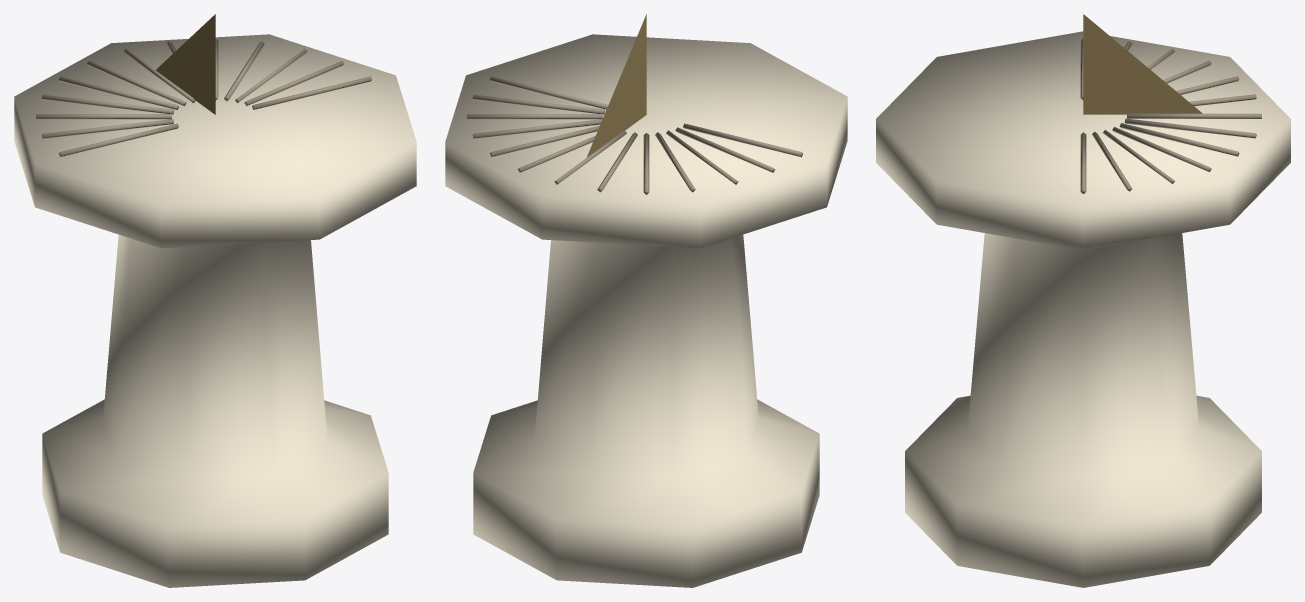
Rendered from courtyard-sundial.glb.
The picture shows the model from 3 angles, left to right: view 1: azimuth 30°, elevation 25°; view 2: azimuth 150°, elevation 25°; view 3: azimuth 270°, elevation 25°; orthographic projection.
Visible parts, largest first — view 1: courtyard-sundial__marble, courtyard-sundial__mortar, courtyard-sundial__bronze; view 2: courtyard-sundial__marble, courtyard-sundial__mortar, courtyard-sundial__bronze; view 3: courtyard-sundial__marble, courtyard-sundial__bronze, courtyard-sundial__mortar.
Boxes of the visible parts, box(x1,y1,x2,y2) form: courtyard-sundial__marble: box(14, 34, 416, 587); courtyard-sundial__mortar: box(36, 39, 371, 157); courtyard-sundial__bronze: box(155, 14, 215, 114); courtyard-sundial__marble: box(445, 34, 847, 587); courtyard-sundial__mortar: box(467, 76, 802, 194); courtyard-sundial__bronze: box(586, 14, 646, 157); courtyard-sundial__marble: box(876, 31, 1290, 587); courtyard-sundial__bronze: box(1083, 14, 1202, 114); courtyard-sundial__mortar: box(1080, 39, 1261, 193).
Bounding box in the file's own units: 0.86 × 1.14 × 0.86.
